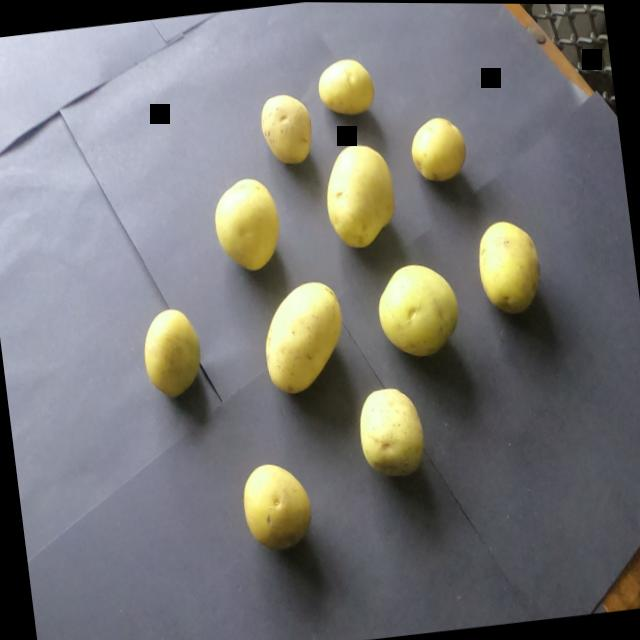Potato: (249, 271, 361, 405), (368, 242, 468, 374), (128, 285, 218, 427), (338, 374, 442, 495), (464, 201, 561, 323), (312, 133, 404, 257), (228, 451, 319, 569), (202, 168, 289, 284), (308, 34, 389, 130), (246, 82, 322, 172), (403, 102, 479, 190)
